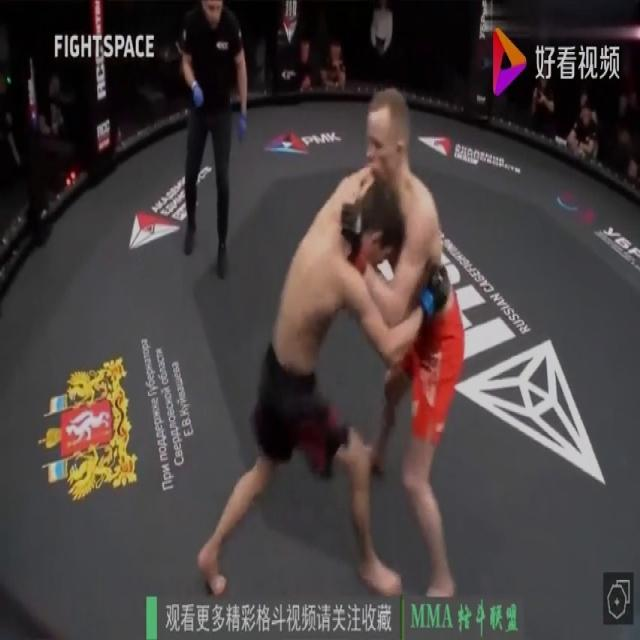fight: (171, 67, 510, 617)
non-fight: (164, 0, 259, 280)
